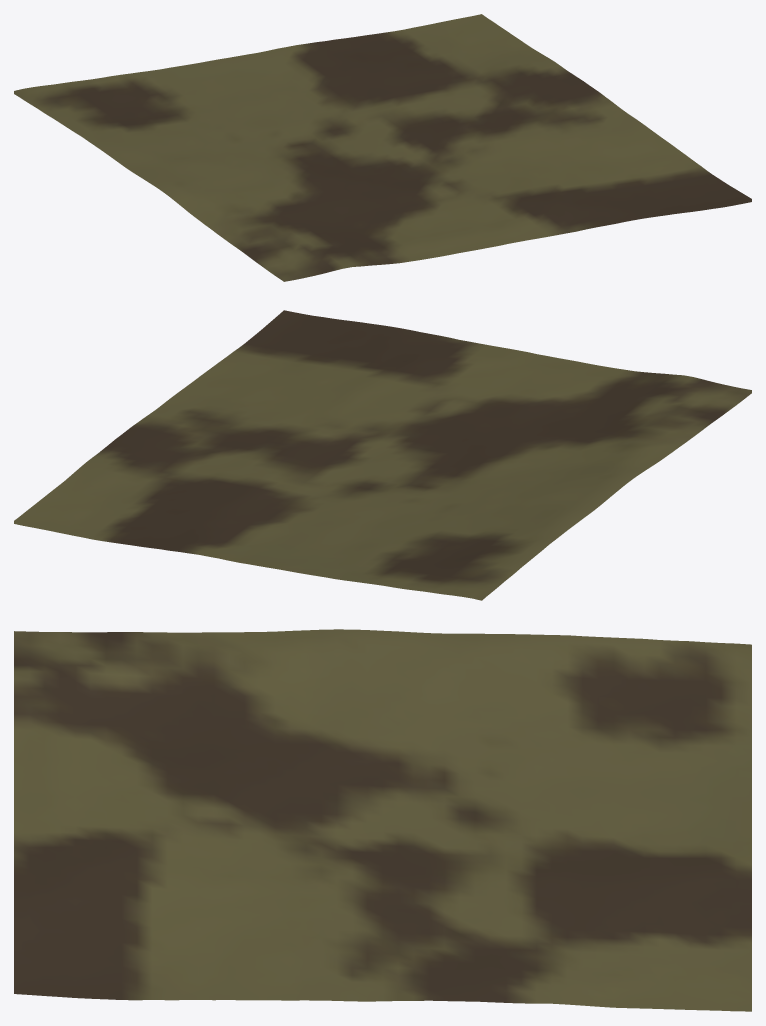
The model's file is land_m_00_09.glb.
3 renders of one model, top to bottom at view 1: azimuth 30°, elevation 25°; view 2: azimuth 150°, elevation 25°; view 3: azimuth 270°, elevation 25°, orthographic. The views are drawn at different scales.
Visible parts, largest first — view 1: land_m_00_09; view 2: land_m_00_09; view 3: land_m_00_09.
Part boxes in pixels (left/top/right/bottom): land_m_00_09: left=14, top=14, right=751, bottom=281; land_m_00_09: left=14, top=310, right=751, bottom=600; land_m_00_09: left=14, top=629, right=751, bottom=1011.
Size of the model in its own units: 960 by 101 by 960.
